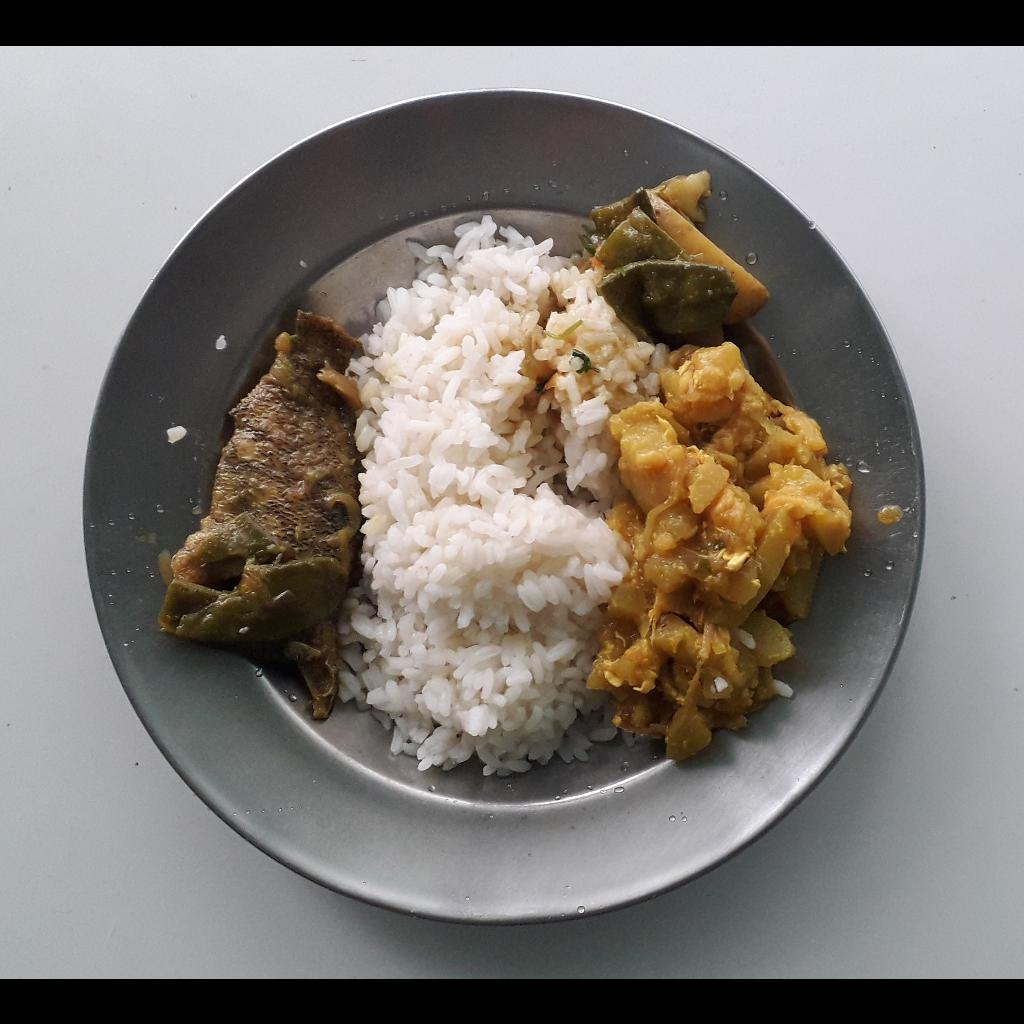fish: (169, 306, 362, 586)
lau: (583, 343, 853, 764)
potato: (654, 167, 773, 326)
rice: (333, 217, 662, 780)
shim: (159, 553, 349, 720), (589, 188, 737, 344)
